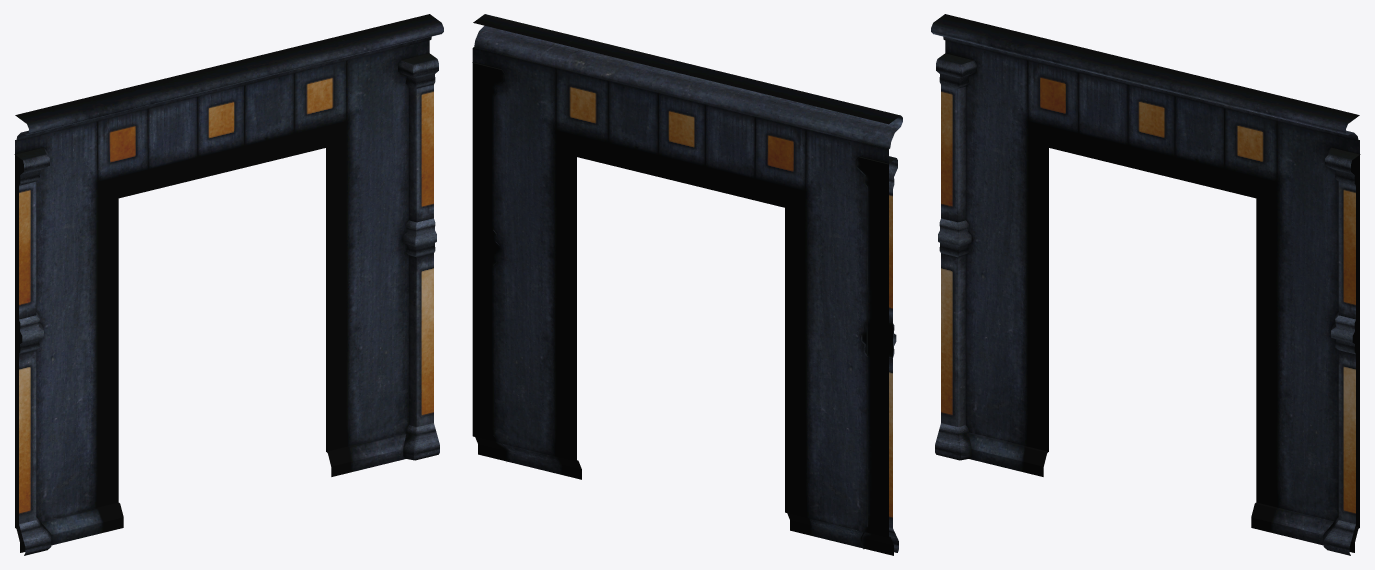
The model's file is door_way02_blue.dae.
3 renders of one model, left to right at view 1: azimuth 30°, elevation 25°; view 2: azimuth 150°, elevation 25°; view 3: azimuth 330°, elevation 25°, orthographic.
Parts seen in each view (by area): view 1: door_way02; view 2: door_way02; view 3: door_way02.
Part boxes in pixels (<box>): door_way02: <box>14,14,443,555</box>; door_way02: <box>472,14,902,555</box>; door_way02: <box>931,14,1360,555</box>.
Bounding box in the file's own units: 4 × 4 × 0.2475.
